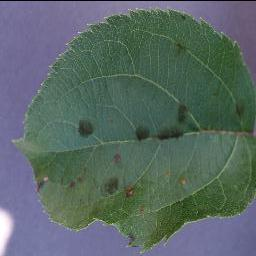apple scab disease: (12, 7, 255, 250)
